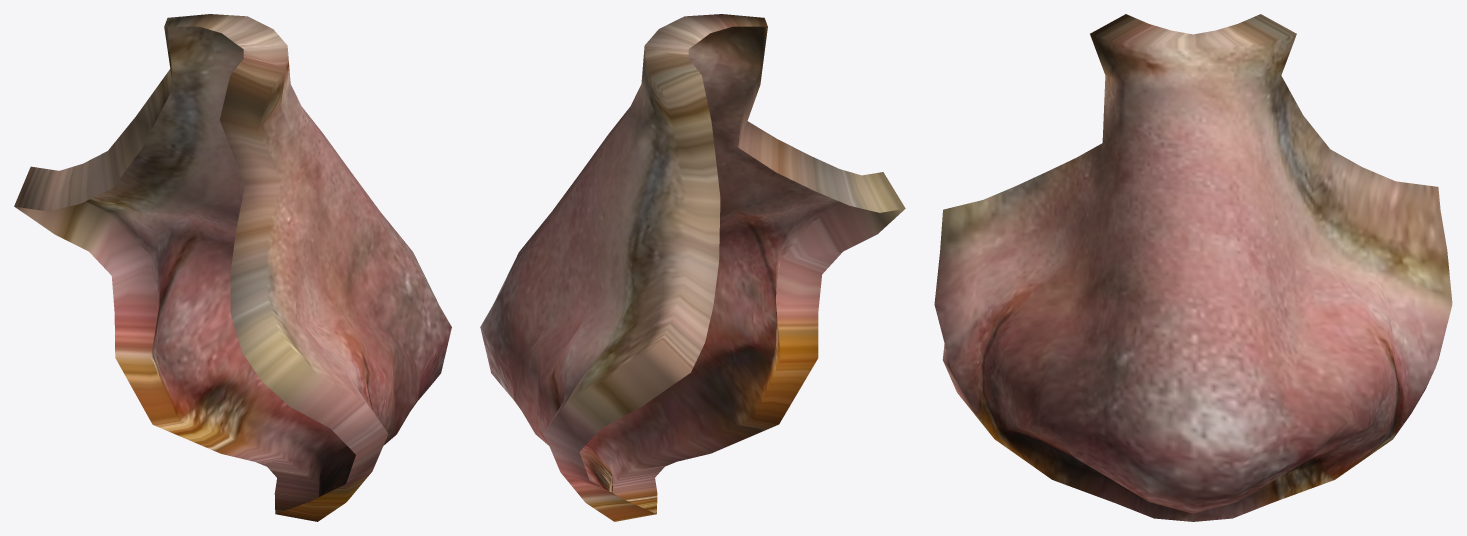
3 renders of one model, left to right at view 1: azimuth 30°, elevation 25°; view 2: azimuth 150°, elevation 25°; view 3: azimuth 270°, elevation 25°, orthographic.
Visible parts, largest first — view 1: 03; view 2: 03; view 3: 03.
Boxes of the visible parts, x1=… form: 03: x1=14, y1=14, x2=451, y2=521; 03: x1=480, y1=14, x2=905, y2=521; 03: x1=934, y1=14, x2=1452, y2=521.
Bounding box in the file's own units: 0.2073 × 0.2858 × 0.2923.
Materials: 1 (1 with a texture image).
